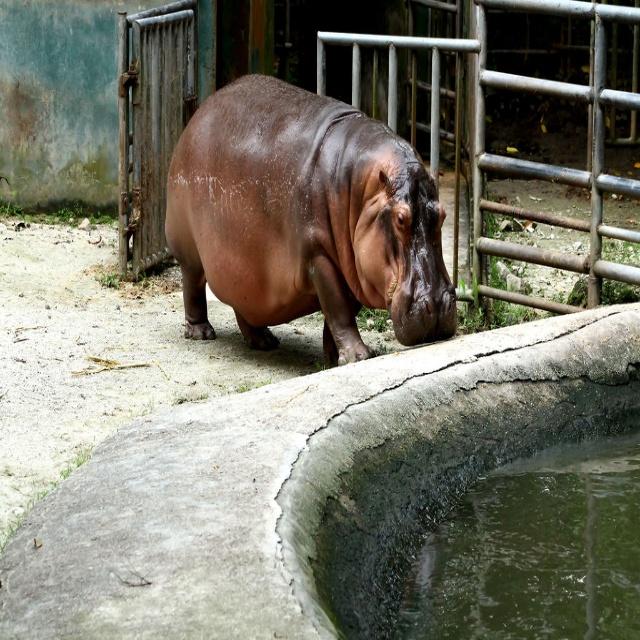Hippopotamus: (163, 75, 456, 363)
